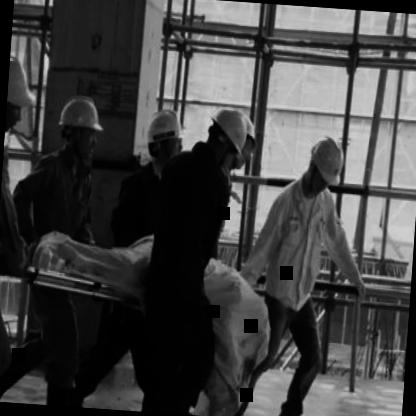helmet: (52, 88, 110, 167), (300, 126, 348, 198), (4, 47, 42, 135), (142, 104, 186, 169), (204, 104, 247, 170), (239, 115, 258, 170)
